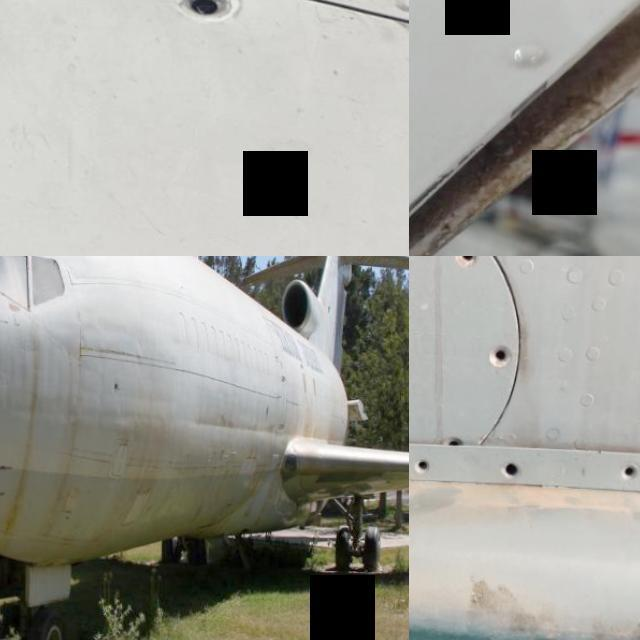Missing_Fastener: (476, 333, 526, 383), (428, 418, 480, 464), (163, 0, 253, 25), (488, 447, 534, 491), (441, 256, 496, 283), (609, 449, 640, 492), (409, 447, 439, 482)
